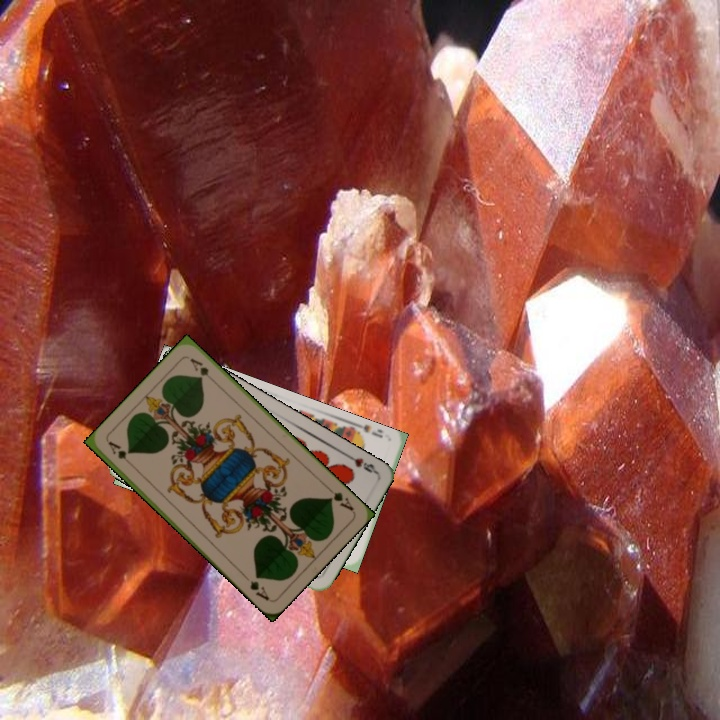GA: (104, 437, 137, 470), (322, 483, 357, 514)
H9: (341, 449, 379, 476)
S9: (350, 423, 385, 442)
